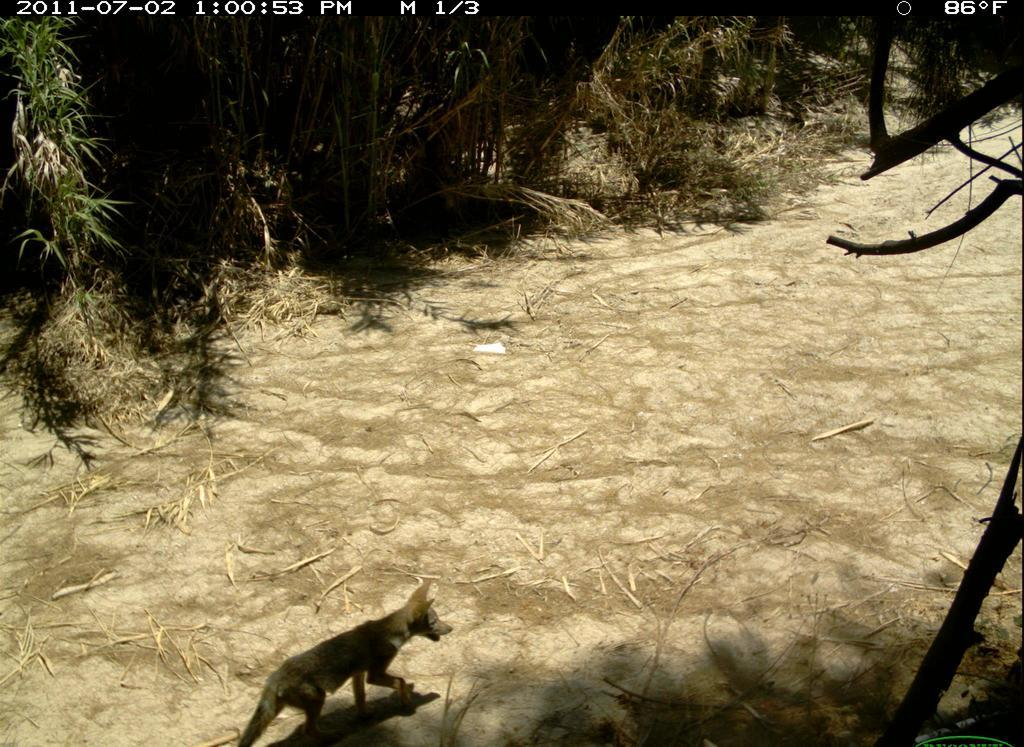coyote: (233, 575, 457, 747)
